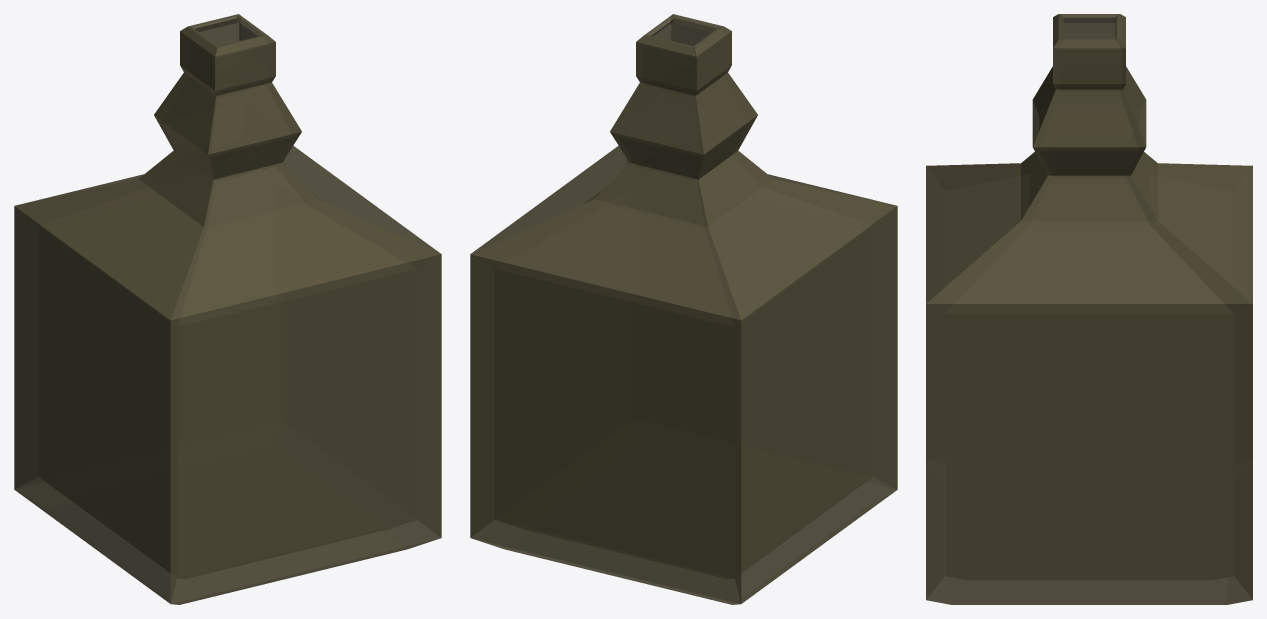
The model's file is Bottle 2.fbx.
3 renders of one model, left to right at view 1: azimuth 30°, elevation 25°; view 2: azimuth 150°, elevation 25°; view 3: azimuth 270°, elevation 25°, orthographic. The views are drawn at different scales.
Parts seen in each view (by area): view 1: pCube1; view 2: pCube1; view 3: pCube1.
Boxes of the visible parts, <box> form: pCube1: <box>14,14,441,604</box>; pCube1: <box>470,14,897,604</box>; pCube1: <box>926,14,1252,604</box>.
Size of the model in its own units: 12.21 by 21.42 by 12.21.
